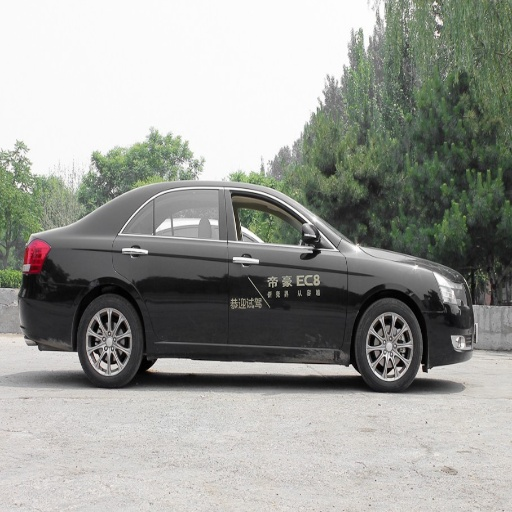back_right_door: (116, 187, 227, 343)
front_right_door: (228, 189, 347, 355)
